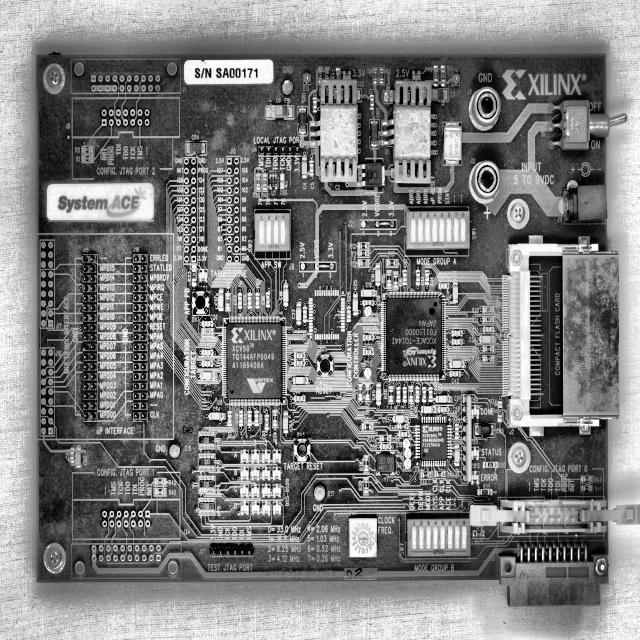PCB: (35, 51, 621, 608)
